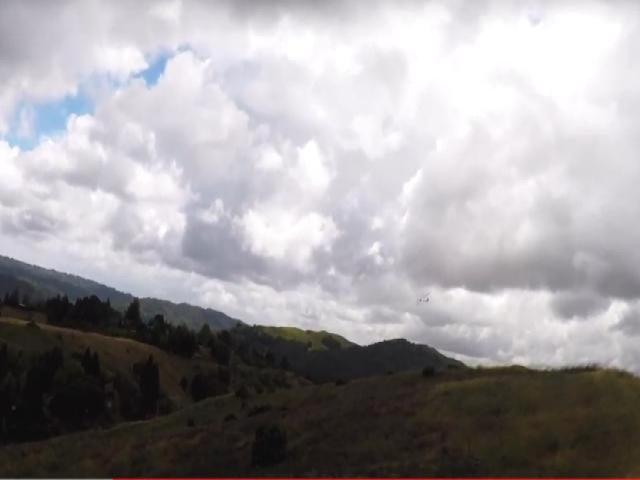iha: (416, 291, 434, 308)
